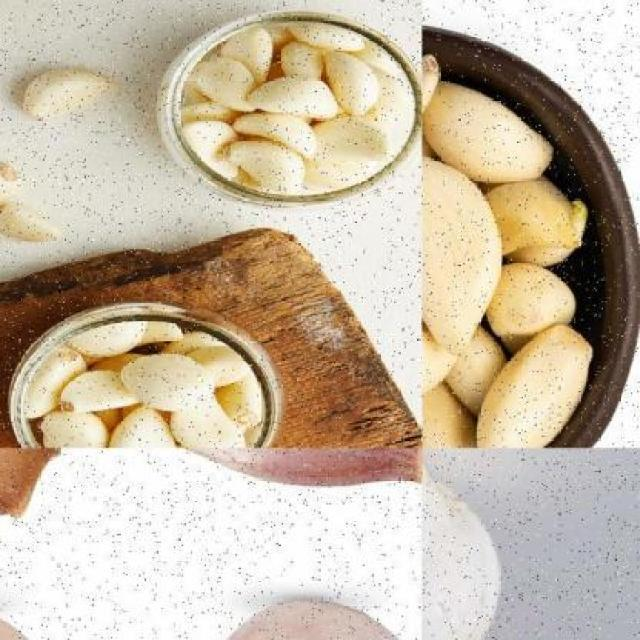garlic: (174, 23, 408, 192), (20, 314, 268, 448), (422, 150, 504, 358), (421, 74, 557, 192), (471, 324, 598, 448), (27, 345, 144, 426), (482, 254, 580, 350), (115, 351, 228, 413), (16, 64, 113, 124), (233, 110, 326, 172), (0, 158, 62, 247), (240, 72, 344, 125), (323, 49, 384, 116), (422, 387, 482, 447)
